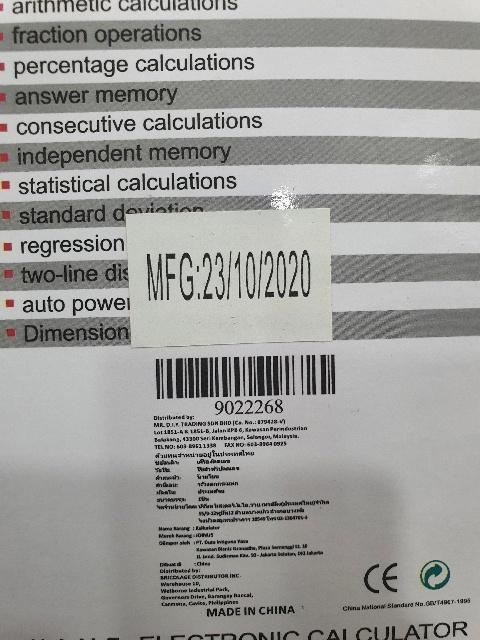Barcode: (142, 344, 357, 414)
